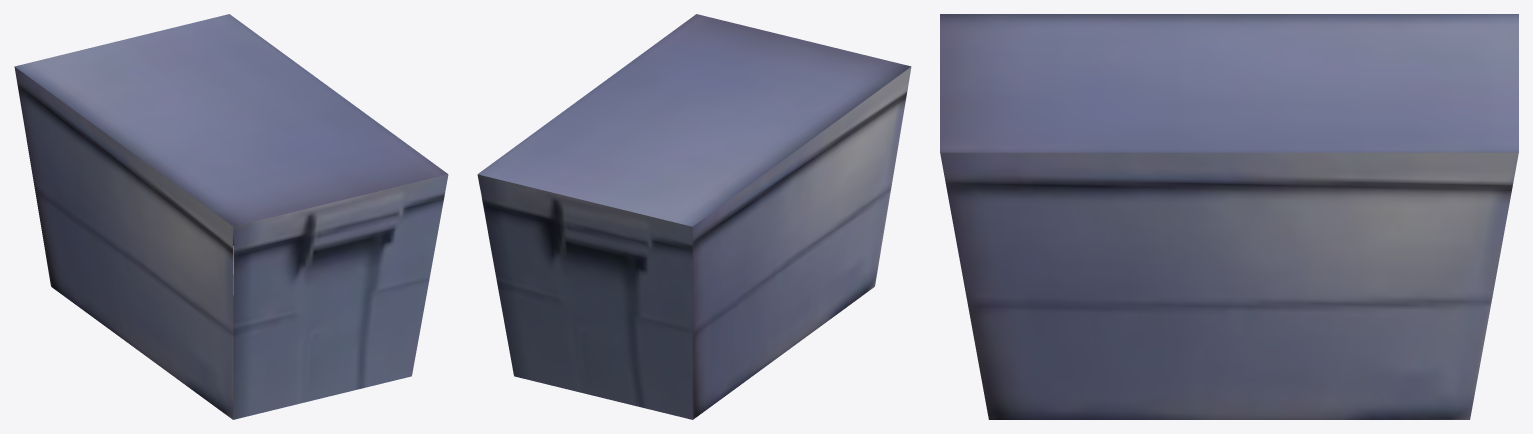
File: plastic_storage_bin.FBX
3 renders of one model, left to right at view 1: azimuth 30°, elevation 25°; view 2: azimuth 150°, elevation 25°; view 3: azimuth 270°, elevation 25°, orthographic. The views are drawn at different scales.
Visible parts, largest first — view 1: plastic_storage_bin; view 2: plastic_storage_bin; view 3: plastic_storage_bin.
Part boxes in pixels (<box>): plastic_storage_bin: <box>14,14,448,419</box>; plastic_storage_bin: <box>477,14,911,419</box>; plastic_storage_bin: <box>940,14,1518,419</box>.
Size of the model in its own units: 68.44 by 64.22 by 121.
